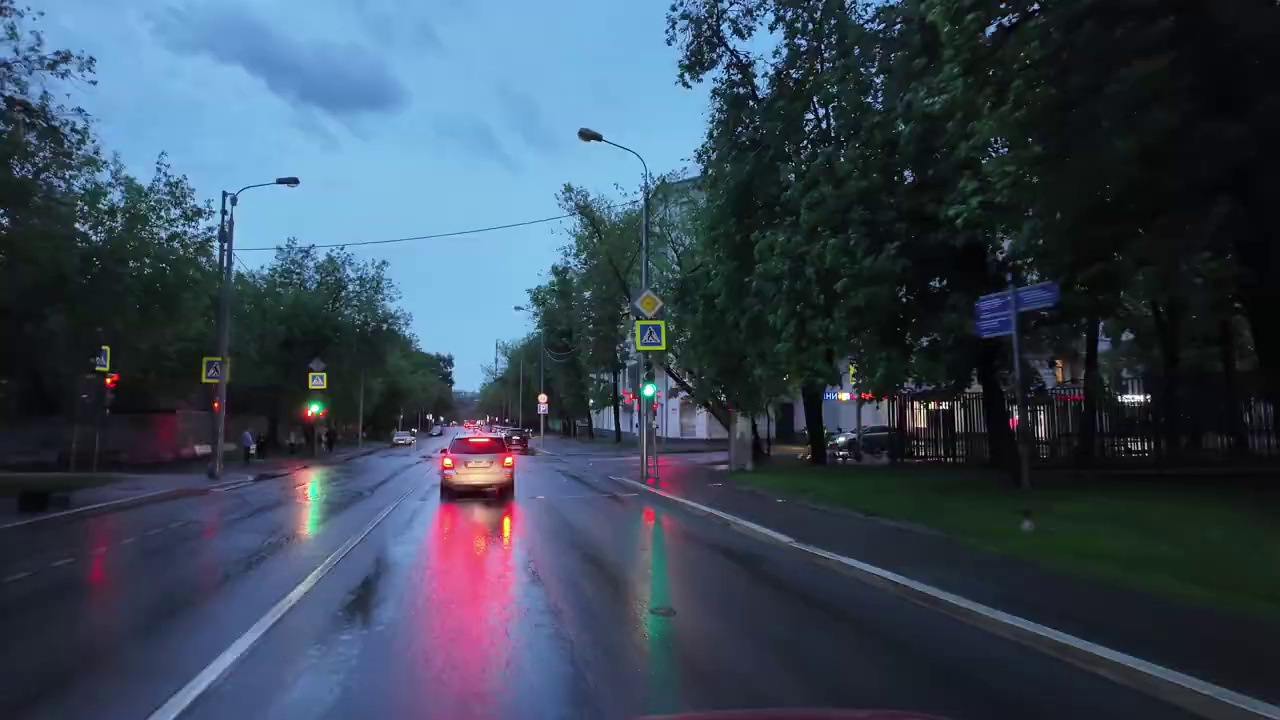apagada: (574, 121, 607, 148), (270, 168, 302, 193)
